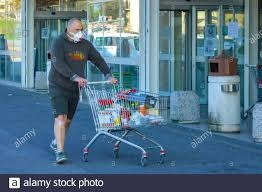with_basket: (81, 80, 168, 165)
with_mask: (65, 19, 85, 41)
